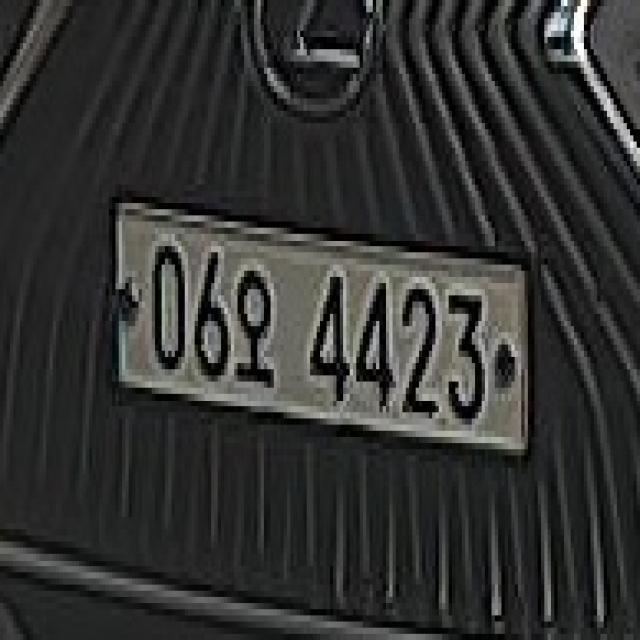plat: (108, 193, 534, 454)
